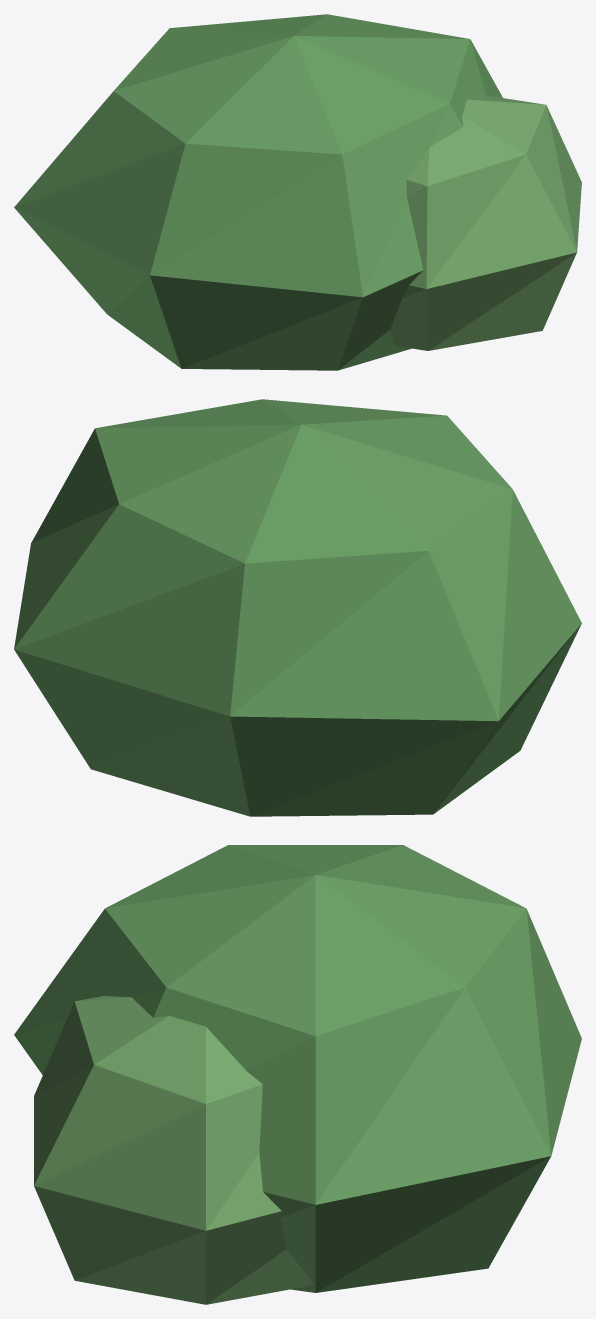
File: bush.glb
The picture shows the model from 3 angles, top to bottom: view 1: azimuth 30°, elevation 25°; view 2: azimuth 150°, elevation 25°; view 3: azimuth 270°, elevation 25°; orthographic projection. The views are drawn at different scales.
Bounding box in the file's own units: 1.92 × 1.24 × 1.66.
